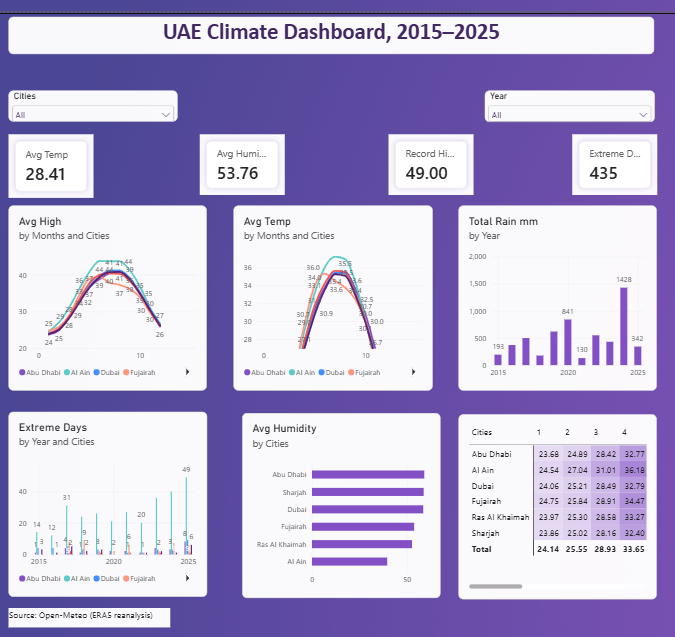

What the dashboard file says about the page in this screenshot:
{"tool":"powerbi","page":{"name":"Page 2","canvas":[1920,1080],"ordinal":1},"visuals":[{"type":"slicer","fields":{"Values":["Calendar.Year"]},"box":[993.3,127,280,51.7],"z":1000},{"type":"cardVisual","fields":{"Data":["uae_climate_raw.Avg Temp"]},"box":[210,200.3,140,105],"z":2000},{"type":"cardVisual","fields":{"Data":["uae_climate_raw.Avg Humidity"]},"box":[525,200.3,140,100],"z":3000},{"type":"cardVisual","fields":{"Data":["uae_climate_raw.Record High"]},"box":[836.7,200.3,140,100],"z":4000},{"type":"cardVisual","fields":{"Data":["uae_climate_raw.Extreme Days"]},"box":[1138.3,200.3,140,100],"z":5000},{"type":"lineChart","fields":{"Category":["Calendar.MonthNum"],"Series":["uae_climate_raw.City Clean"],"Y":["uae_climate_raw.Avg High"]},"box":[210,317,326.7,305],"z":6000},{"type":"lineChart","fields":{"Category":["Calendar.MonthNum"],"Series":["uae_climate_raw.City Clean"],"Y":["uae_climate_raw.Avg Temp"]},"box":[580,317,328.3,305],"z":7000},{"type":"clusteredColumnChart","fields":{"Category":["Calendar.Year"],"Series":["uae_climate_raw.City Clean"],"Y":["uae_climate_raw.Extreme Days"]},"box":[210,656.7,327,305],"z":8000},{"type":"clusteredBarChart","fields":{"Category":["uae_climate_raw.City Clean"],"Y":["uae_climate_raw.Avg Humidity"]},"box":[595,658.3,326.7,305],"z":9000},{"type":"clusteredColumnChart","fields":{"Category":["Calendar.Year"],"Y":["uae_climate_raw.Total Rain mm"]},"box":[951.7,317,326.7,305],"z":10000},{"type":"pivotTable","fields":{"Columns":["Calendar.Months"],"Rows":["uae_climate_raw.City Clean"],"Values":["uae_climate_raw.Avg High"]},"box":[951.7,660,326.7,305],"z":11000},{"type":"textbox","box":[210,6,1063.3,61.7],"z":11001},{"type":"textbox","box":[210,980,266.7,31.7],"z":11002},{"type":"slicer","fields":{"Values":["uae_climate_raw.City Clean"]},"box":[210,127.1,278.6,51.4],"z":11003}]}

Visuals, with their boxes on the page's 1920x1080 design canvas (x1, y1, x2, y2). These are canvas units, not pixel positions in the 675x637 screenshot, which may show the page scaled, cropped or inside an application window:
slicer - Calendar.Year: [993,127,1273,179]
cardVisual - uae_climate_raw.Avg Temp: [210,200,350,305]
cardVisual - uae_climate_raw.Avg Humidity: [525,200,665,300]
cardVisual - uae_climate_raw.Record High: [837,200,977,300]
cardVisual - uae_climate_raw.Extreme Days: [1138,200,1278,300]
lineChart - Calendar.MonthNum x uae_climate_raw.City Clean: [210,317,537,622]
lineChart - Calendar.MonthNum x uae_climate_raw.City Clean: [580,317,908,622]
clusteredColumnChart - Calendar.Year x uae_climate_raw.City Clean: [210,657,537,962]
clusteredBarChart - uae_climate_raw.City Clean x uae_climate_raw.Avg Humidity: [595,658,922,963]
clusteredColumnChart - Calendar.Year x uae_climate_raw.Total Rain mm: [952,317,1278,622]
pivotTable - Calendar.Months x uae_climate_raw.City Clean: [952,660,1278,965]
textbox: [210,6,1273,68]
textbox: [210,980,477,1012]
slicer - uae_climate_raw.City Clean: [210,127,489,178]
